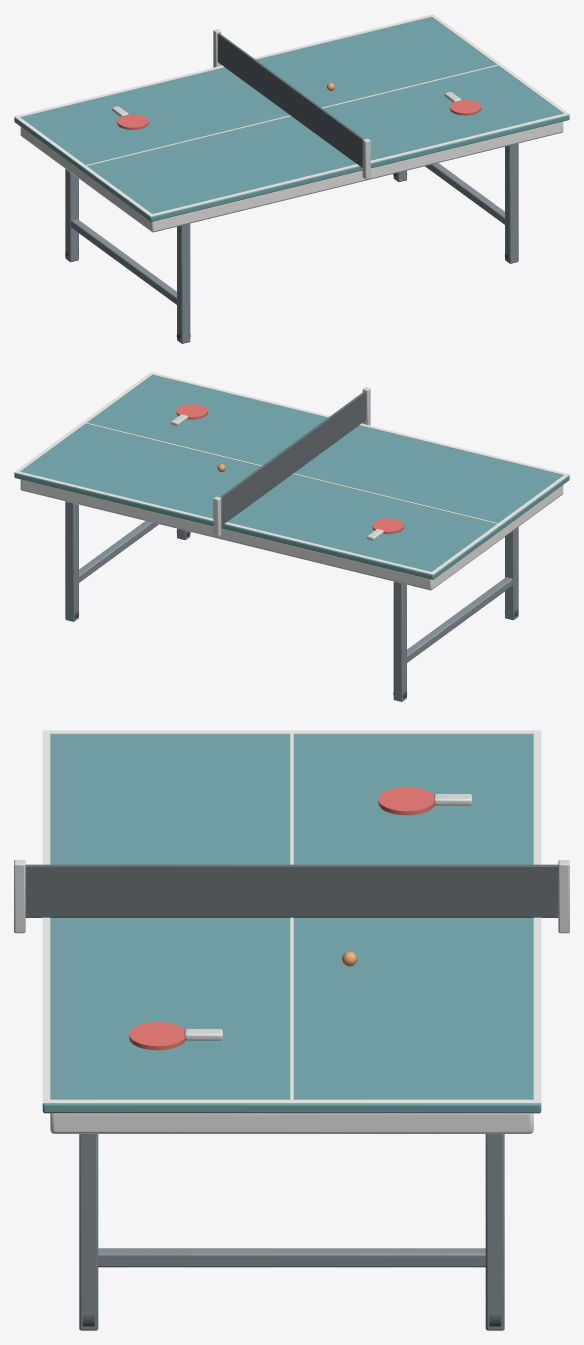
File: table_tennis.glb
The picture shows the model from 3 angles, top to bottom: view 1: azimuth 30°, elevation 25°; view 2: azimuth 150°, elevation 25°; view 3: azimuth 270°, elevation 25°; orthographic projection. The views are drawn at different scales.
Visible parts, largest first — view 1: top_field_teal, legs_dark_alloy, apron_white_painted, net_graphite, lines_white_painted, net_posts_satin_steel, bat_0_button_red, bat_1_button_red; view 2: top_field_teal, legs_dark_alloy, apron_white_painted, net_graphite, lines_white_painted, net_posts_satin_steel; view 3: top_field_teal, net_graphite, legs_dark_alloy, lines_white_painted, apron_white_painted, net_posts_satin_steel, bat_0_button_red, bat_1_button_red.
Part boxes in pixels (x1,y1,x2,y2): top_field_teal: [14, 17, 569, 221]; legs_dark_alloy: [65, 143, 518, 343]; apron_white_painted: [20, 121, 563, 232]; net_graphite: [217, 33, 363, 167]; lines_white_painted: [14, 14, 569, 216]; net_posts_satin_steel: [213, 29, 370, 179]; bat_0_button_red: [117, 114, 148, 129]; bat_1_button_red: [449, 100, 481, 115]; top_field_teal: [14, 375, 569, 579]; legs_dark_alloy: [65, 501, 518, 701]; apron_white_painted: [20, 479, 563, 590]; net_graphite: [220, 391, 366, 525]; lines_white_painted: [14, 372, 569, 574]; net_posts_satin_steel: [213, 387, 370, 537]; top_field_teal: [42, 734, 541, 1113]; net_graphite: [25, 864, 558, 917]; legs_dark_alloy: [79, 1134, 504, 1330]; lines_white_painted: [42, 730, 541, 1103]; apron_white_painted: [50, 1113, 533, 1133]; net_posts_satin_steel: [14, 860, 569, 933]; bat_0_button_red: [378, 787, 434, 815]; bat_1_button_red: [129, 1022, 185, 1050].
Bounding box in the file's own units: 2.3 × 0.92 × 1.45.
